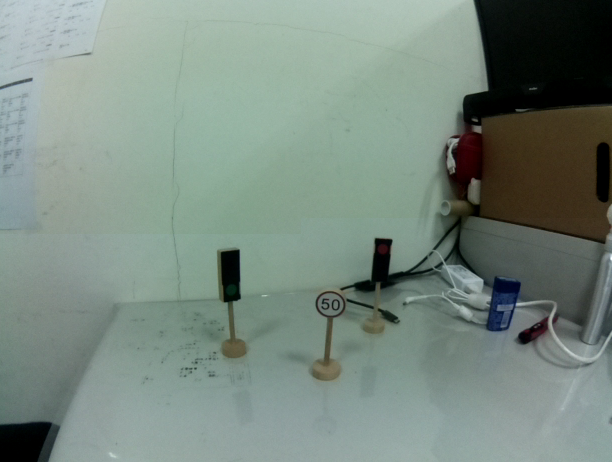Green: (214, 248, 243, 308)
Red: (368, 235, 392, 286)
Speed50: (314, 287, 348, 319)
